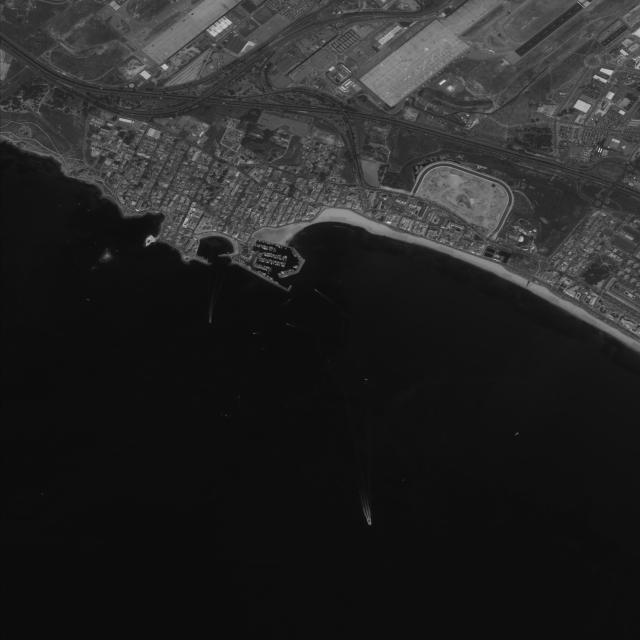plane: (485, 46, 496, 55), (422, 46, 431, 53), (419, 37, 427, 44), (378, 62, 385, 68), (428, 71, 434, 76), (406, 75, 412, 79), (403, 67, 409, 71), (417, 67, 423, 71), (385, 91, 390, 95), (377, 101, 382, 105), (403, 91, 408, 95), (396, 97, 401, 101), (389, 102, 394, 106), (406, 88, 411, 92), (403, 77, 408, 81), (400, 94, 404, 98), (440, 64, 444, 68), (410, 86, 415, 89)
storage-tank: (205, 62, 218, 72), (211, 52, 223, 61), (381, 194, 385, 198), (385, 194, 388, 197)
